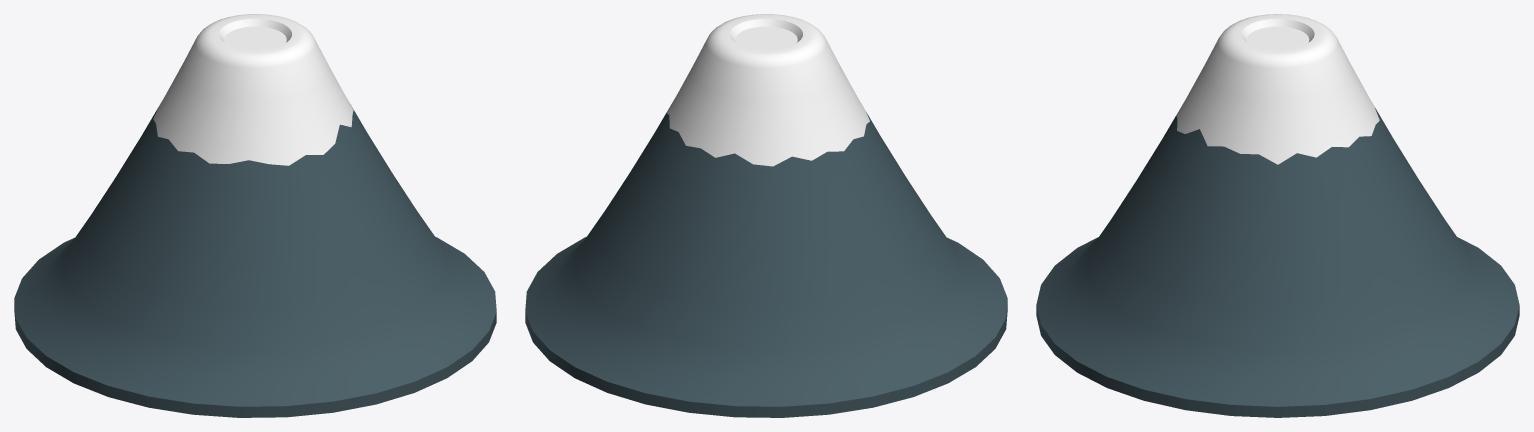
Rendered from mount_fuji.fbx.
The picture shows the model from 3 angles, left to right: view 1: azimuth 30°, elevation 25°; view 2: azimuth 150°, elevation 25°; view 3: azimuth 270°, elevation 25°; orthographic projection.
Parts seen in each view (by area): view 1: Cone; view 2: Cone; view 3: Cone.
Part boxes in pixels (bbox=[...]): Cone: bbox=[14, 14, 496, 417]; Cone: bbox=[525, 14, 1007, 417]; Cone: bbox=[1036, 14, 1519, 417].
Bounding box in the file's own units: 233 × 151 × 233.
Materials: 1 (1 with a texture image).
